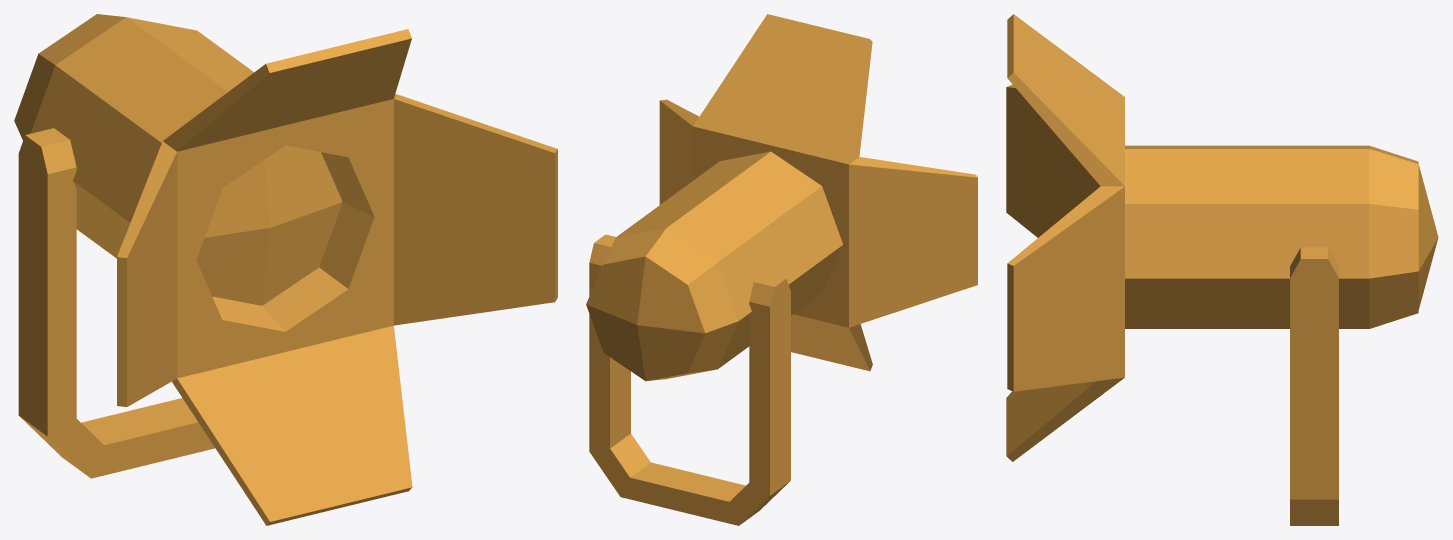
File: SpotlightCombned.fbx
3 views of the same model, side by side, from view 1: azimuth 30°, elevation 25°; view 2: azimuth 150°, elevation 25°; view 3: azimuth 270°, elevation 25° (orthographic). The views are drawn at different scales.
Visible parts, largest first — view 1: spotlight-holder; view 2: spotlight-holder; view 3: spotlight-holder.
Part boxes in pixels (<box>): spotlight-holder: <box>14,14,557,525</box>; spotlight-holder: <box>586,14,977,525</box>; spotlight-holder: <box>1006,14,1438,525</box>.
Size of the model in its own units: 61.15 by 70.46 by 61.46.
